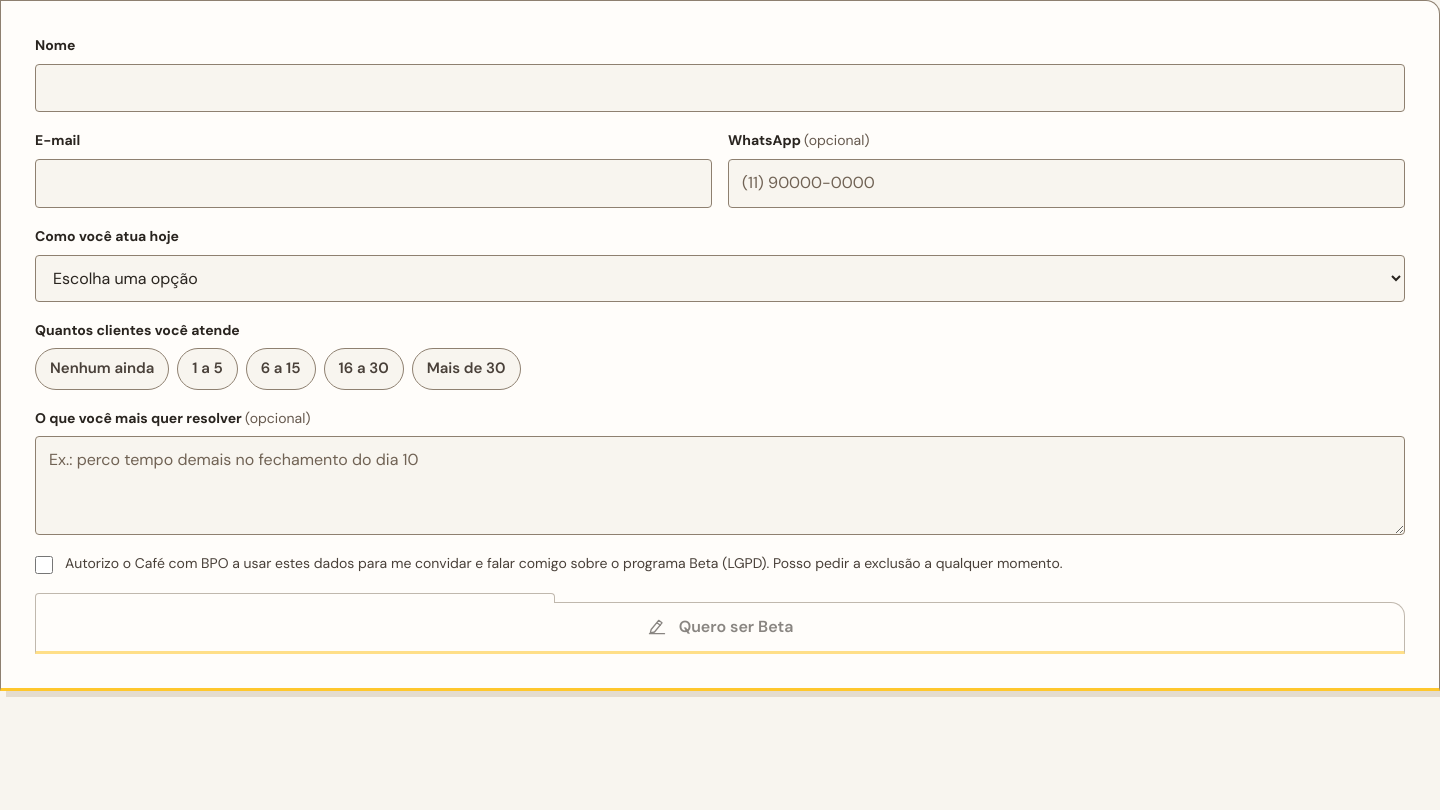
it: BetaSignupForm › warns when there are too many attempts (server rate limit)
Type "Ana Operadora" into the field labelled "Nome" at (720, 88), box [35,64,1405,112]
Type "ana@cafe.com" into the field labelled "E-mail" at (374, 184), box [35,159,712,208]
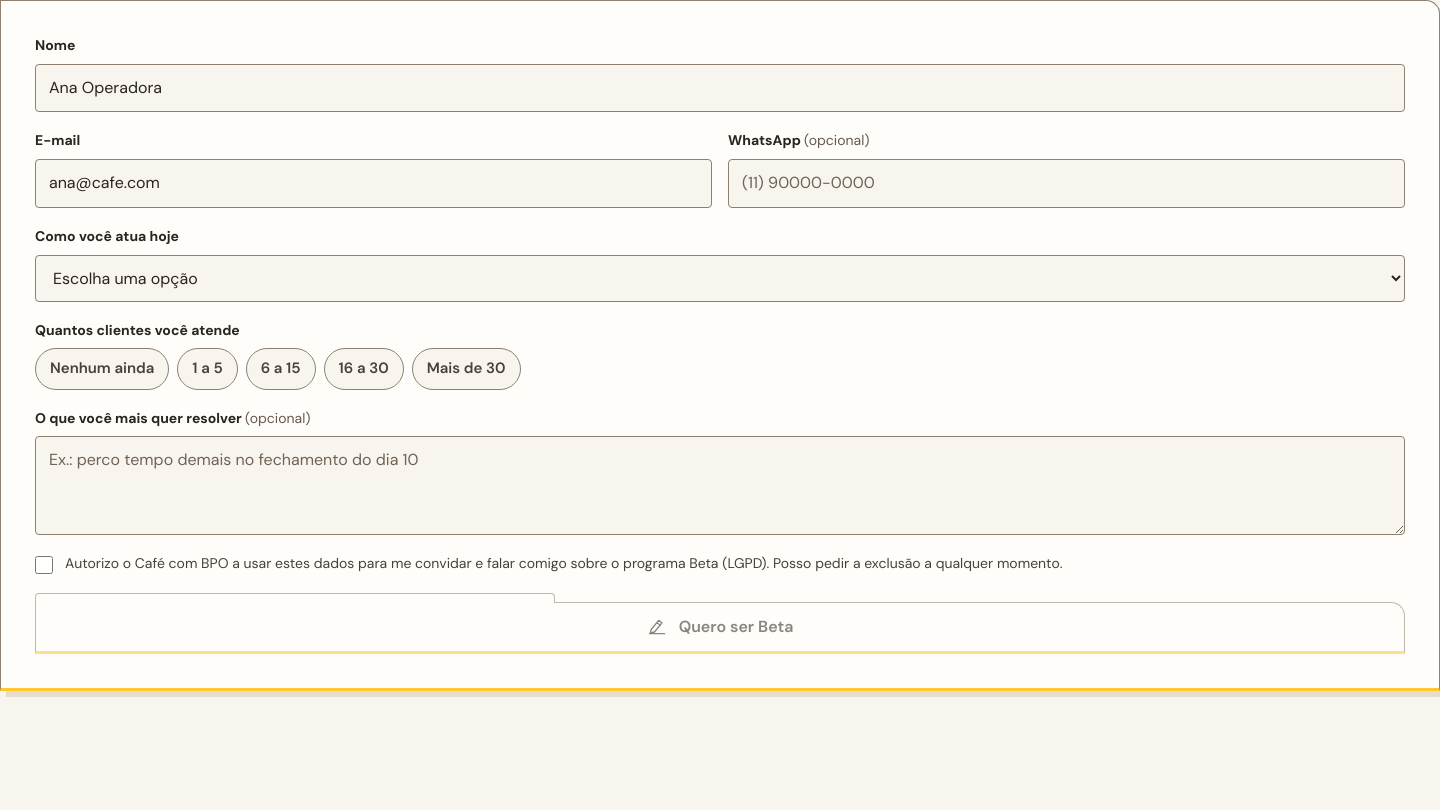
Type "(11) 98765-4321" into the field labelled "WhatsApp (opcional)" at (1066, 184), box [728,159,1405,208]
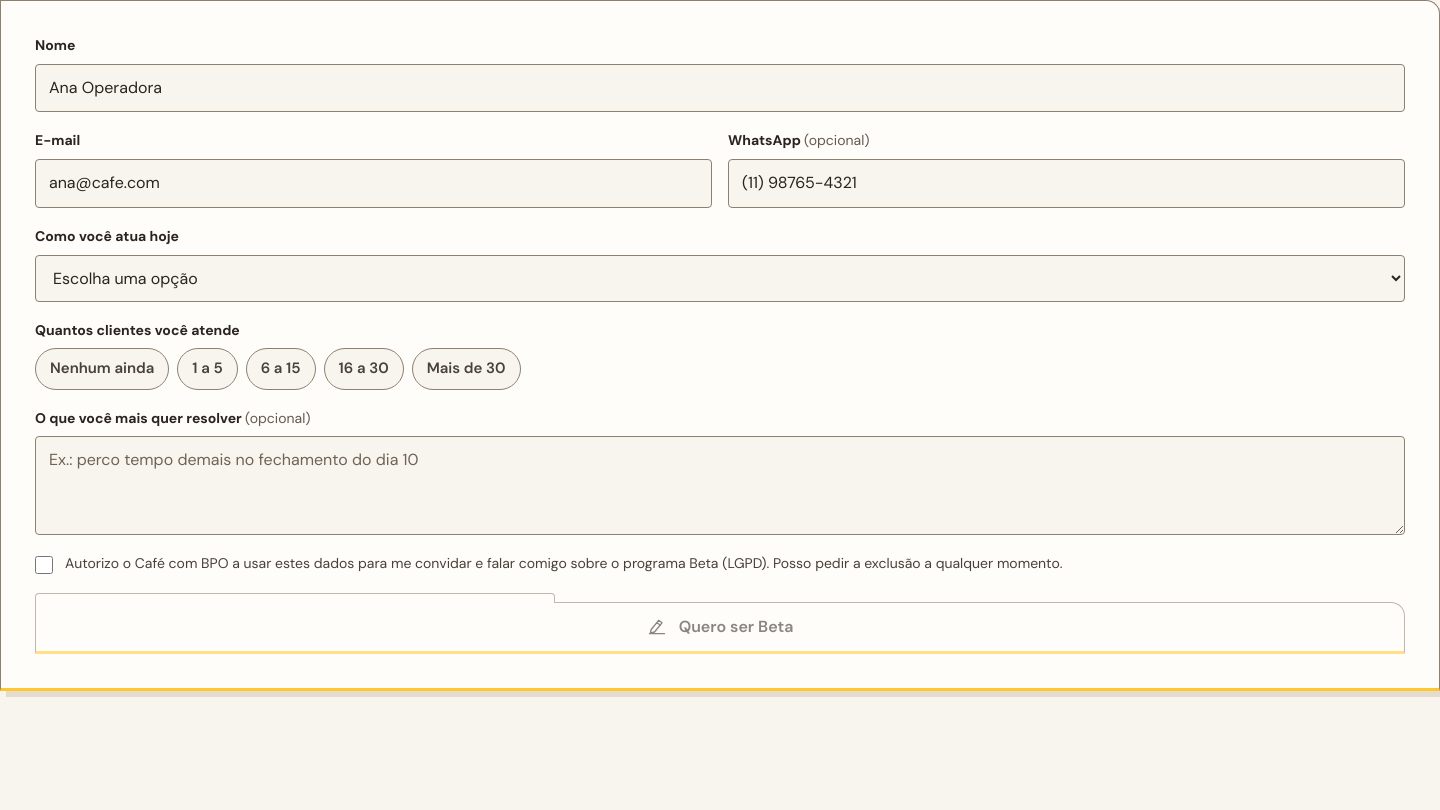
Select "Já tenho clientes e estou crescendo" in the dropdown labelled "Como você atua hoje" at (720, 278), box [35,255,1405,302]
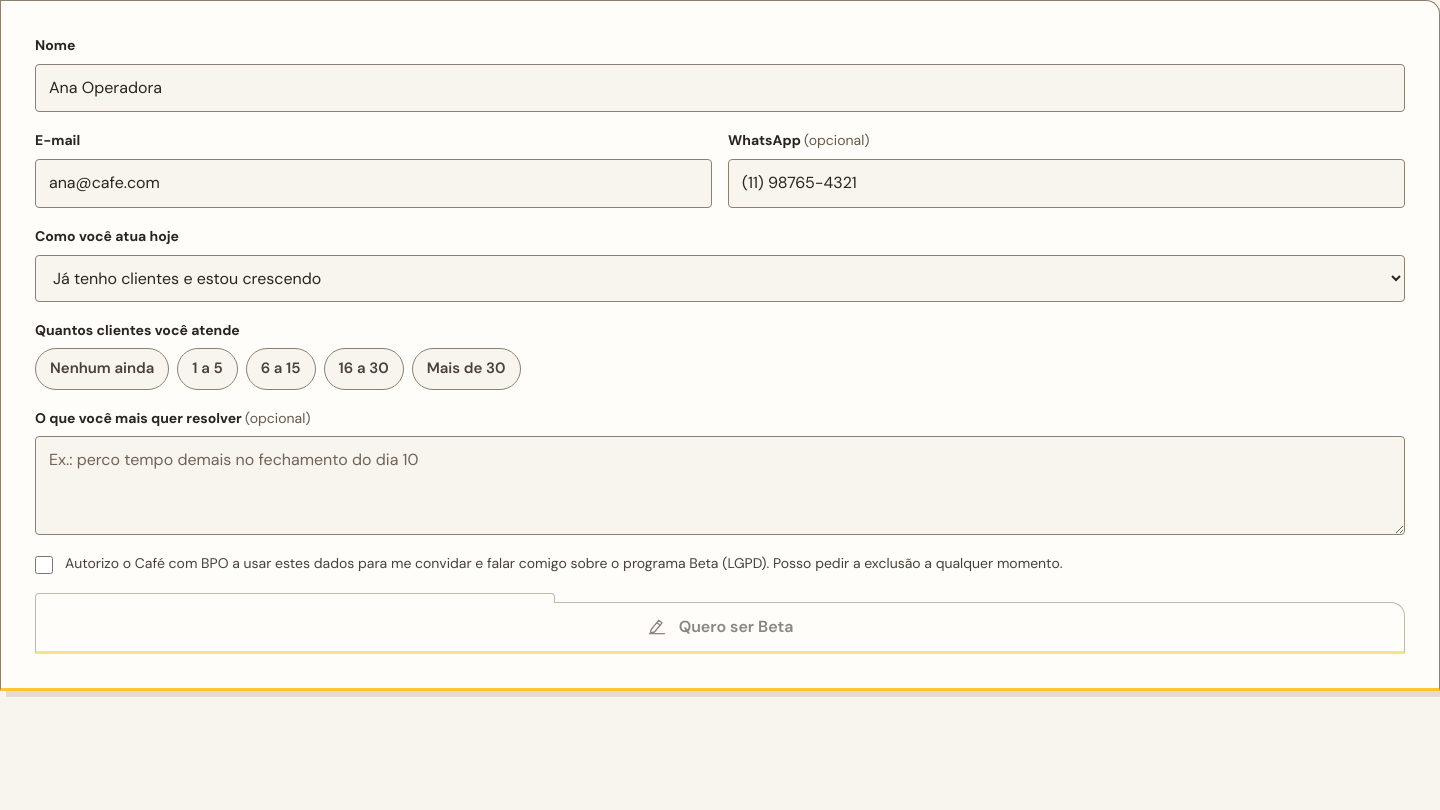
Click the radio button labelled "6 a 15" at (281, 369), box [246,348,316,390]
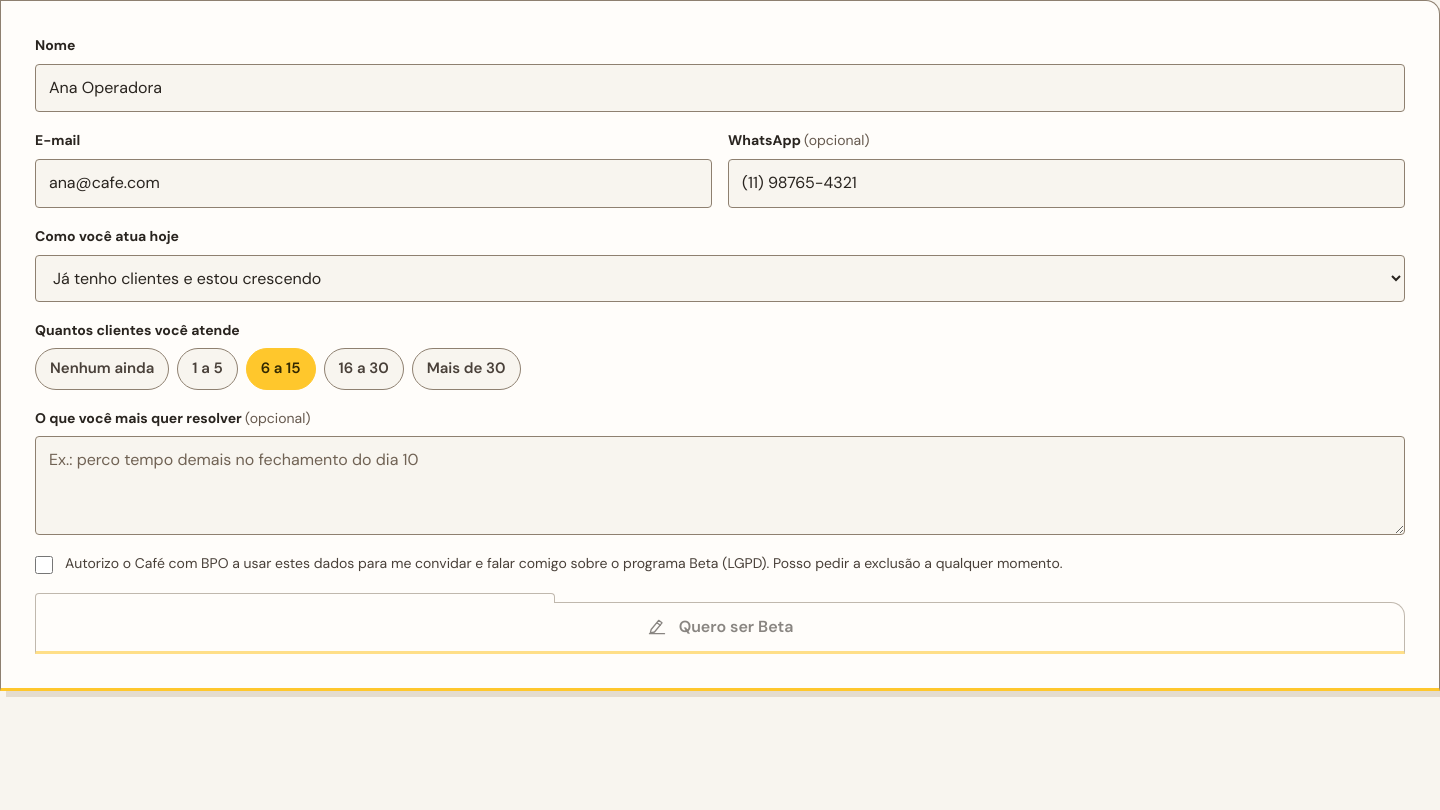
Click the checkbox at (44, 565), box [35,556,53,574]
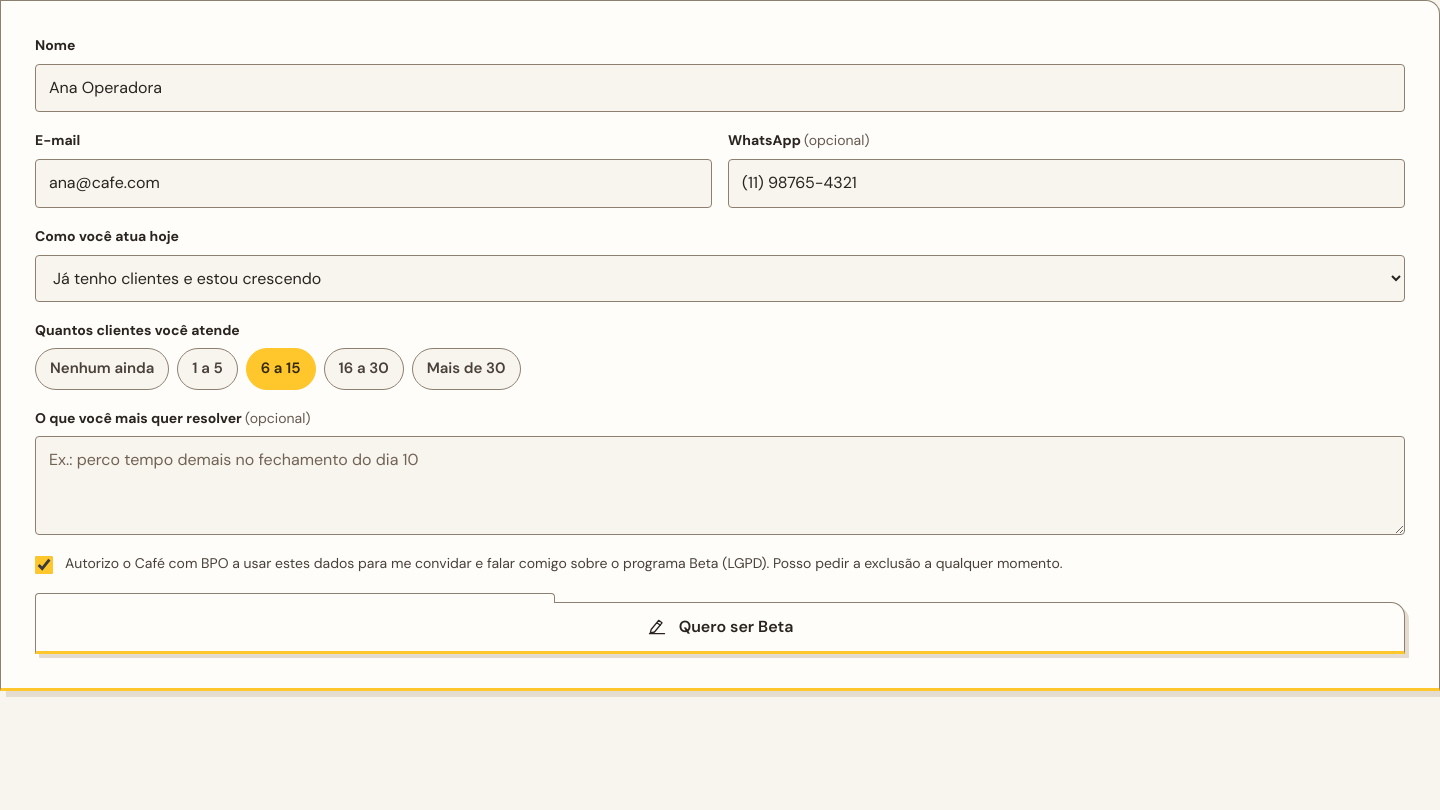
Click the button "Quero ser Beta" at (720, 628), box [35,602,1405,654]
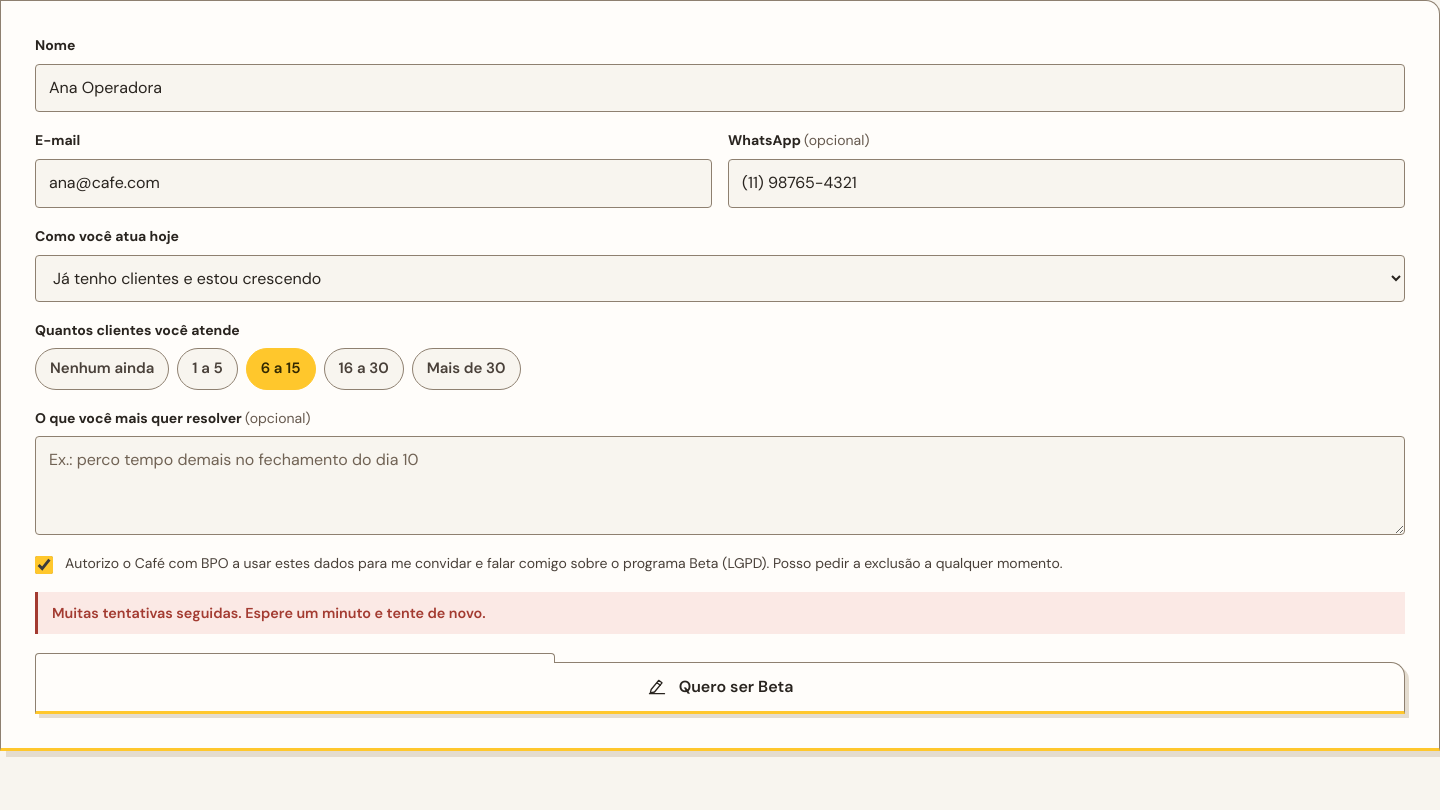
Check: the message shows "Muitas tentativas", box [52,604,486,622]
